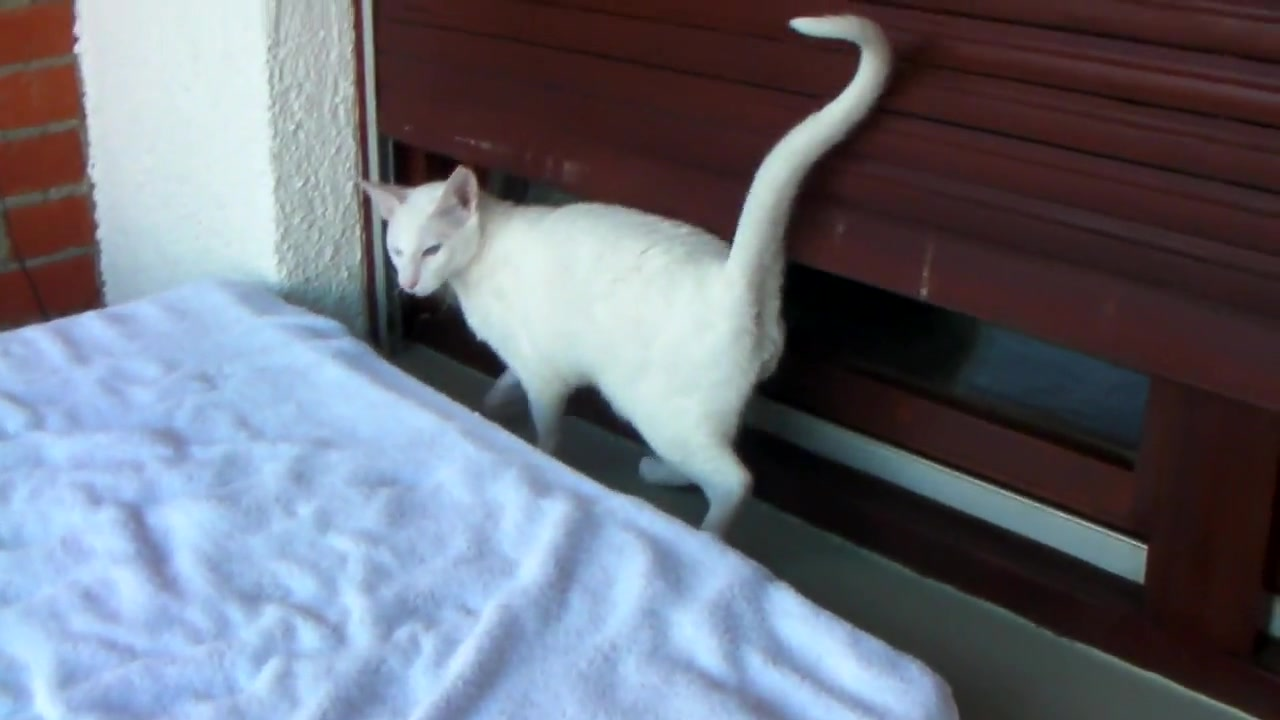cat: (358, 10, 911, 534)
